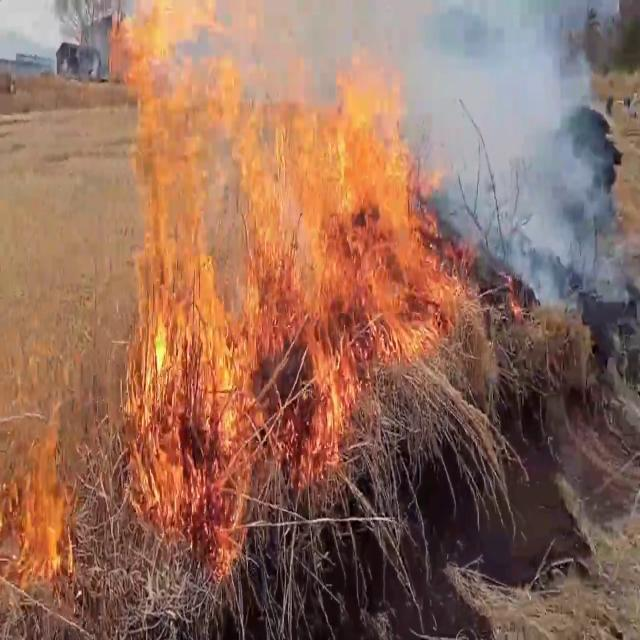Fire: (111, 2, 482, 493), (0, 324, 101, 624)
Smoke: (380, 0, 626, 302)
